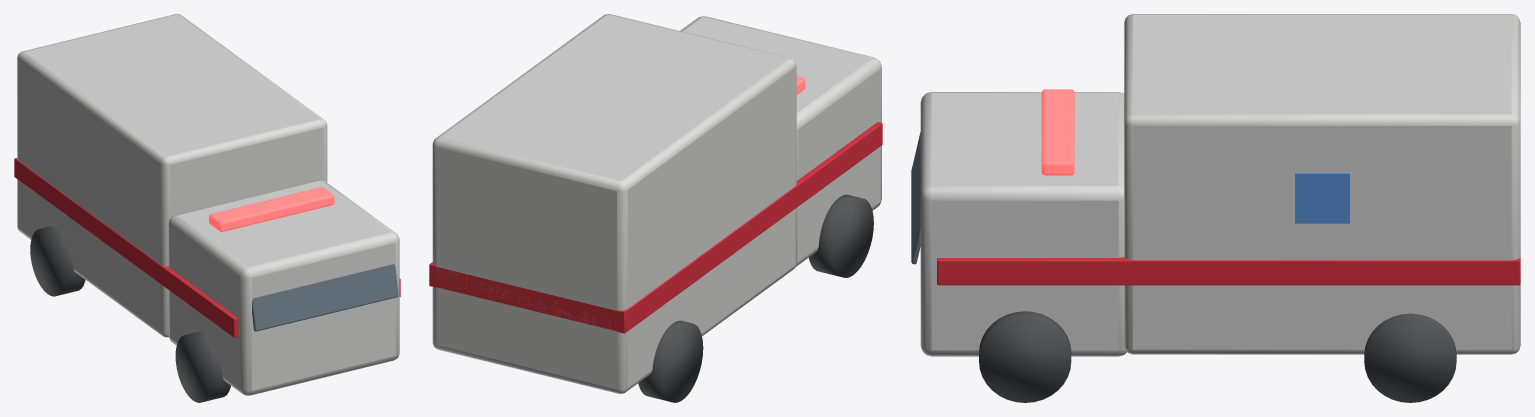
Rendered from ambulance.glb.
The picture shows the model from 3 angles, left to right: view 1: azimuth 30°, elevation 25°; view 2: azimuth 150°, elevation 25°; view 3: azimuth 270°, elevation 25°; orthographic projection. The views are drawn at different scales.
Parts seen in each view (by area): view 1: amb_box, amb_cab, amb_wind, amb_stripe, amb_wheel, amb_wheel.001, amb_bar; view 2: amb_box, amb_cab, amb_stripe, amb_wheel, amb_wheel.001; view 3: amb_box, amb_cab, amb_stripe, amb_wheel.002, amb_wheel.003, amb_bar, amb_star, amb_wind.
Boxes of the visible parts, x1,y1,x2,y2 form: amb_box: (17, 14, 327, 337); amb_cab: (168, 180, 399, 395); amb_wind: (252, 264, 398, 331); amb_stripe: (14, 158, 400, 337); amb_wheel: (175, 332, 230, 402); amb_wheel.001: (30, 226, 85, 296); amb_bar: (209, 187, 334, 231); amb_box: (432, 14, 796, 393); amb_cab: (680, 16, 881, 266); amb_stripe: (429, 122, 882, 333); amb_wheel: (809, 194, 873, 277); amb_wheel.001: (638, 320, 703, 402); amb_box: (1124, 14, 1520, 354); amb_cab: (920, 92, 1126, 356); amb_stripe: (937, 257, 1520, 285); amb_wheel.002: (979, 311, 1071, 402); amb_wheel.003: (1364, 313, 1456, 402); amb_bar: (1041, 89, 1074, 175); amb_star: (1295, 173, 1349, 223); amb_wind: (911, 132, 920, 264).
Bounding box in the file's own units: 2.54 × 2.8 × 5.53.
